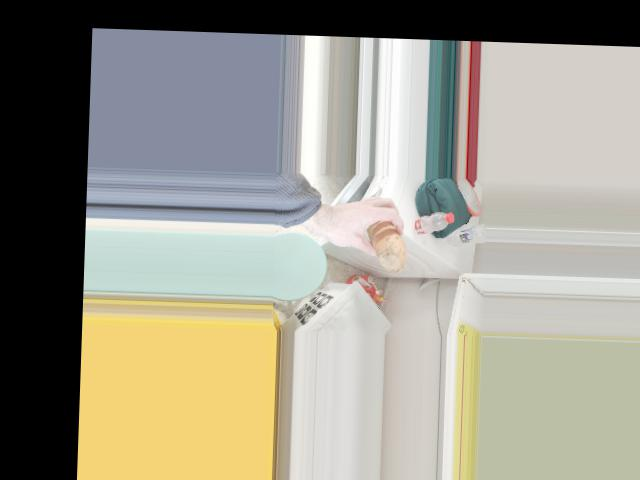sweet_potato: (366, 221, 407, 262)
